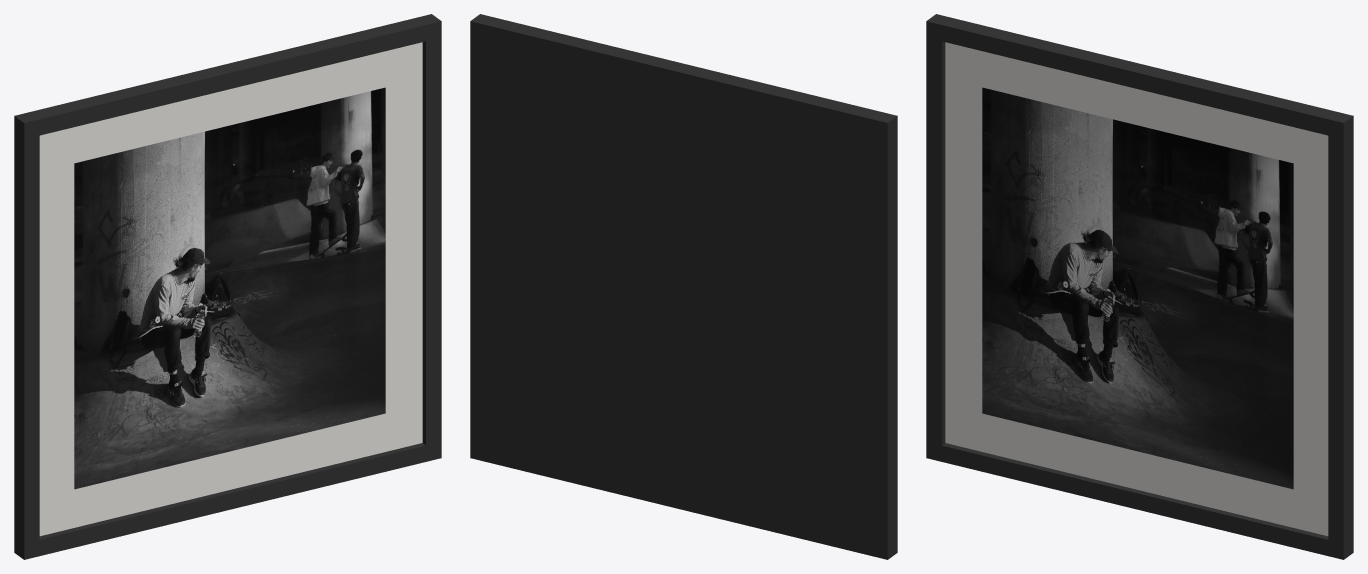
Rendered from pausen-40.gltf.
3 renders of one model, left to right at view 1: azimuth 30°, elevation 25°; view 2: azimuth 150°, elevation 25°; view 3: azimuth 330°, elevation 25°, orthographic.
Visible parts, largest first — view 1: tavla; view 2: tavla; view 3: tavla.
Boxes of the visible parts, bbox=[...] form: tavla: bbox=[14, 14, 441, 559]; tavla: bbox=[470, 14, 897, 559]; tavla: bbox=[926, 14, 1353, 559].
Size of the model in its own units: 0.536 by 0.536 by 0.022.
Materials: 3 (1 with a texture image).
